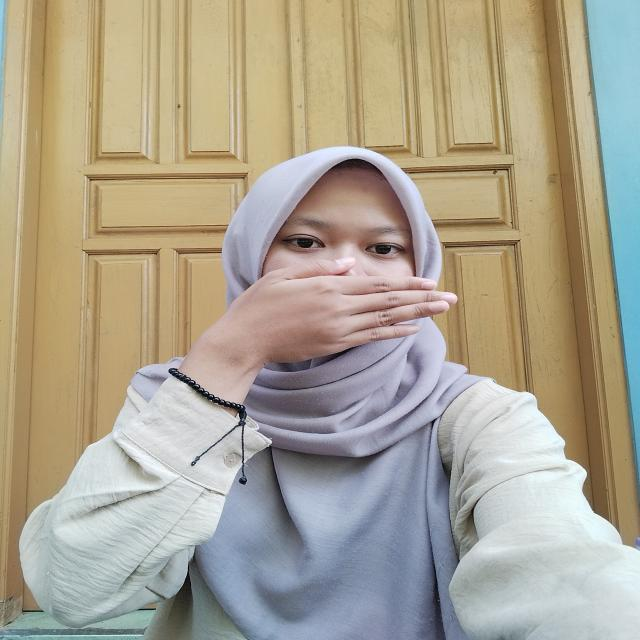buruk: (207, 249, 463, 368)
